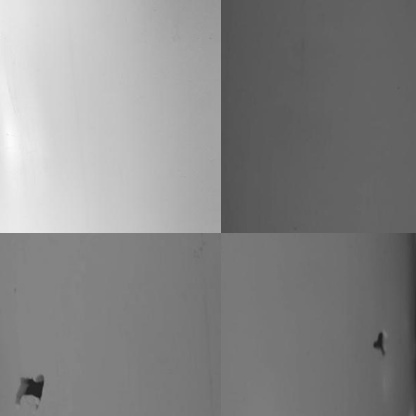kongdong: (13, 370, 58, 409), (372, 328, 388, 358)
